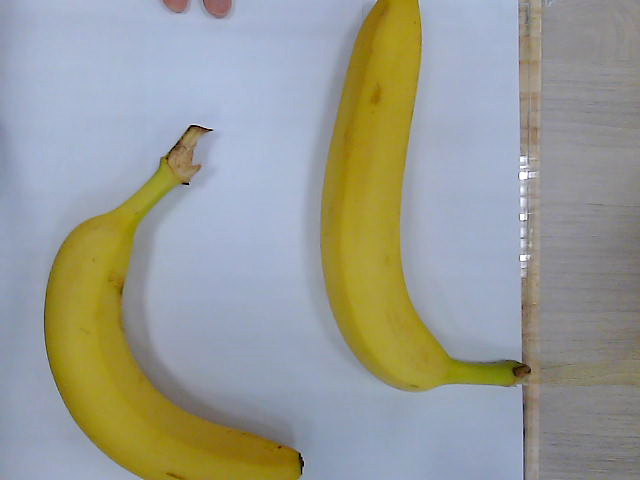fresh_banana: (46, 127, 303, 480), (322, 1, 531, 392)
